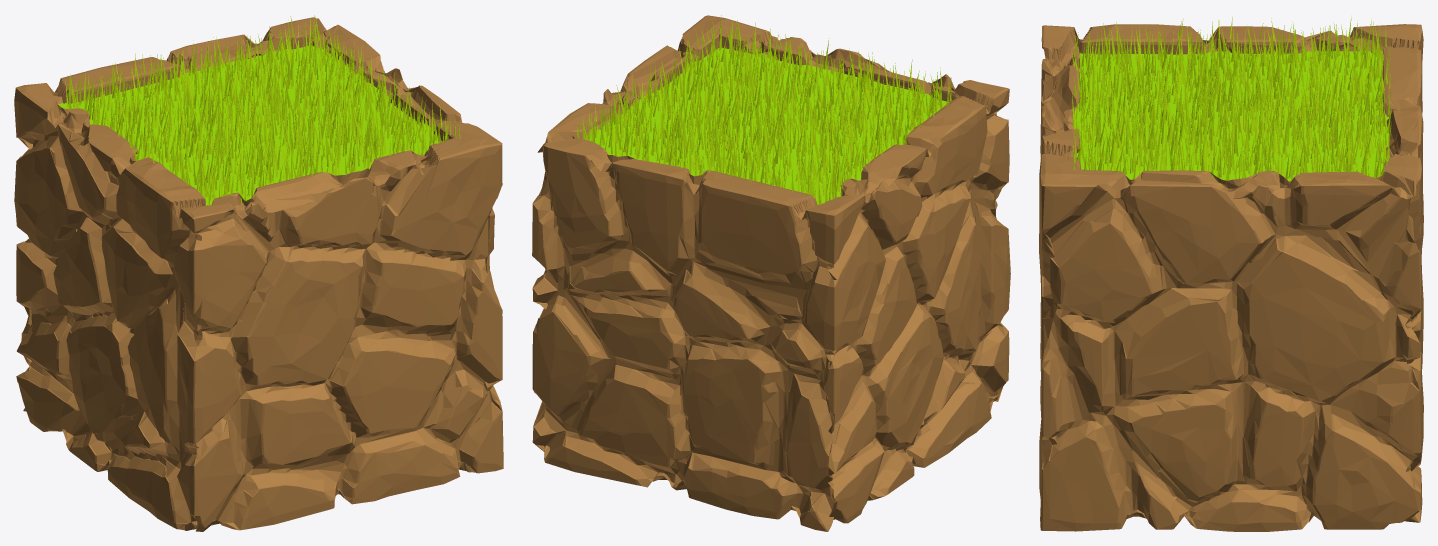
File: grass.glb
3 views of the same model, side by side, from view 1: azimuth 30°, elevation 25°; view 2: azimuth 150°, elevation 25°; view 3: azimuth 270°, elevation 25° (orthographic). The views are drawn at different scales.
Visible parts, largest first — view 1: Cube.002, Cube.001; view 2: Cube.002, Cube.001; view 3: Cube.002, Cube.001.
Part boxes in pixels (x1,y1,x2,y2): Cube.002: (14, 17, 503, 531); Cube.001: (58, 46, 442, 205); Cube.002: (532, 15, 1010, 531); Cube.001: (586, 47, 946, 204); Cube.002: (1039, 24, 1423, 531); Cube.001: (1074, 51, 1388, 184).
Size of the model in its own units: 2.05 by 2.19 by 2.05.
